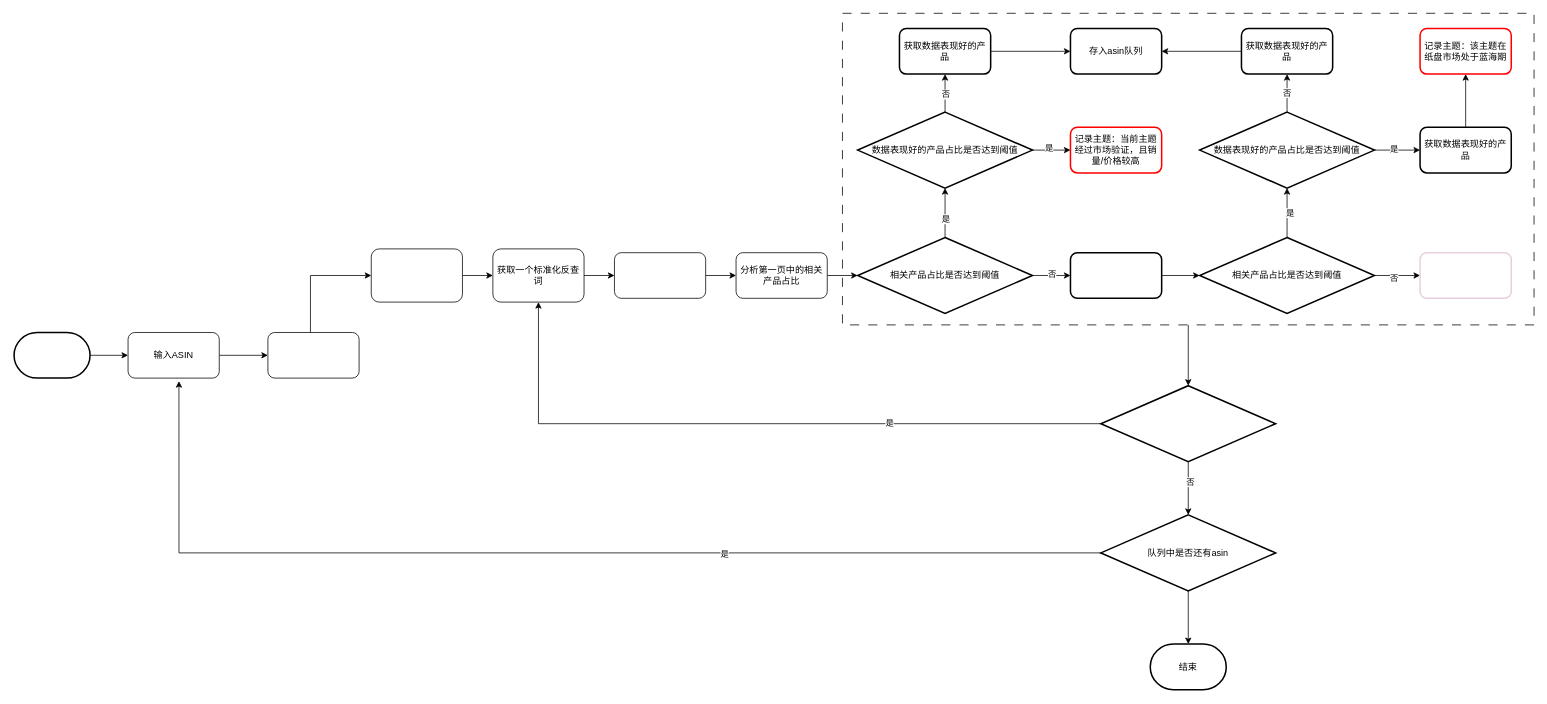
Some shapes in this 1547 by 704 pixel diagram are drawn without their labels. Each missing label, with the centre of its shape:
LLM对反查词进行归类，标准化输出: point 416,275
不记录主题：当前主题没有经过市场验证: point 1465,275
使用"反查词+paper plates"在亚马逊上进行搜索: point 660,275
开始: point 51,354
是否还有反查词: point 1188,423
检查其它类目下是否有相关产品: point 1115,275
获取asin对应反查词库: point 313,355
